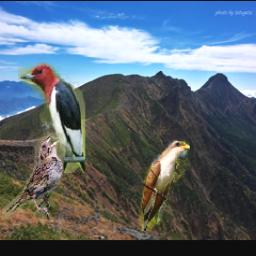Cuckoo: (139, 139, 191, 231)
Sparrow: (2, 134, 64, 237)
Woodpecker: (19, 63, 86, 173)
